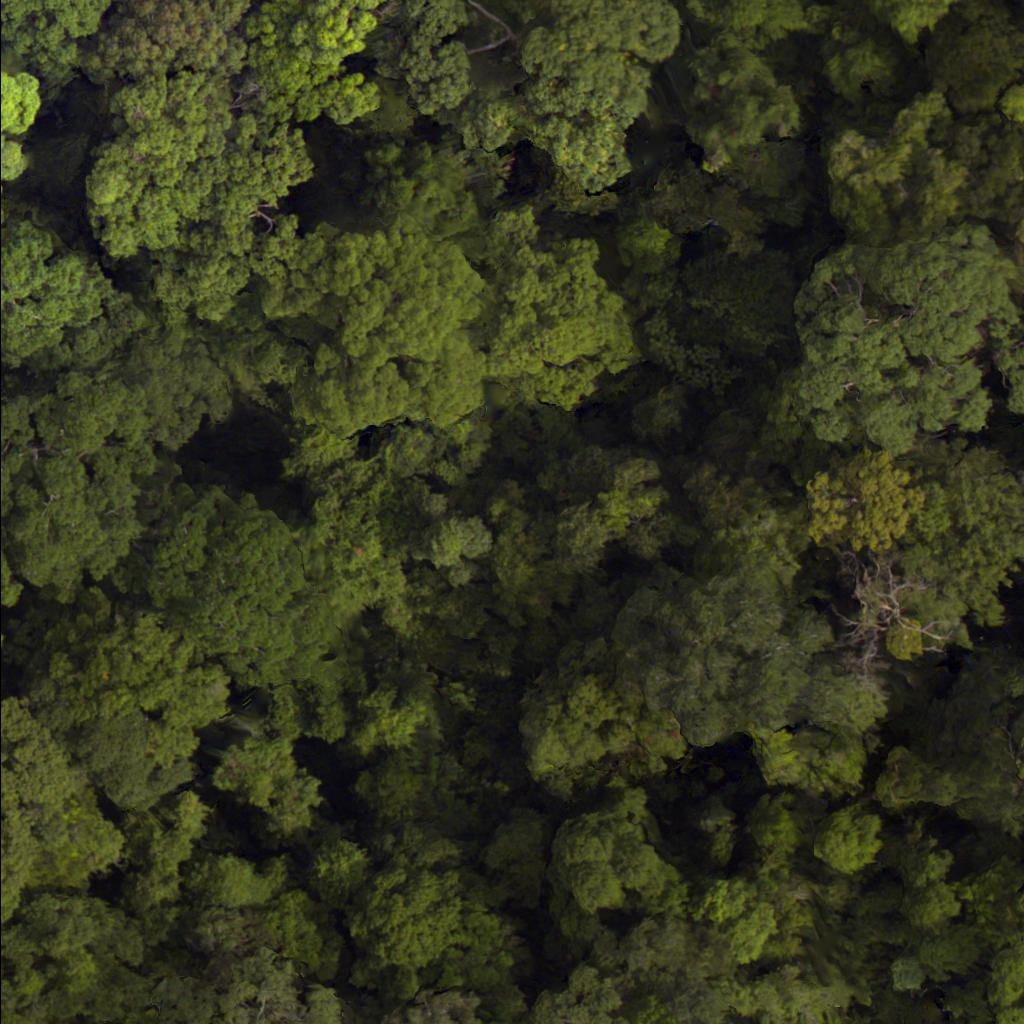crown: (0, 897, 156, 1023), (151, 949, 351, 1023), (187, 851, 291, 907), (268, 894, 341, 966), (192, 907, 272, 964), (303, 844, 364, 896), (0, 1018, 46, 1023)
